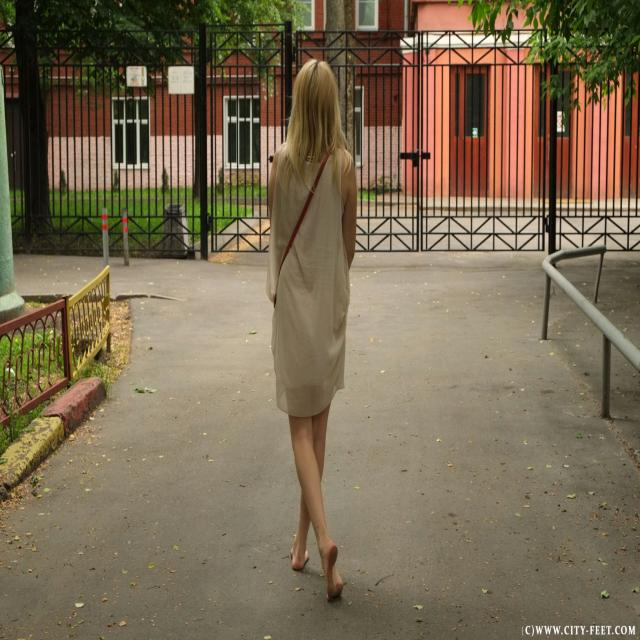No Safety Boots: (324, 540, 343, 600), (290, 544, 309, 570)
